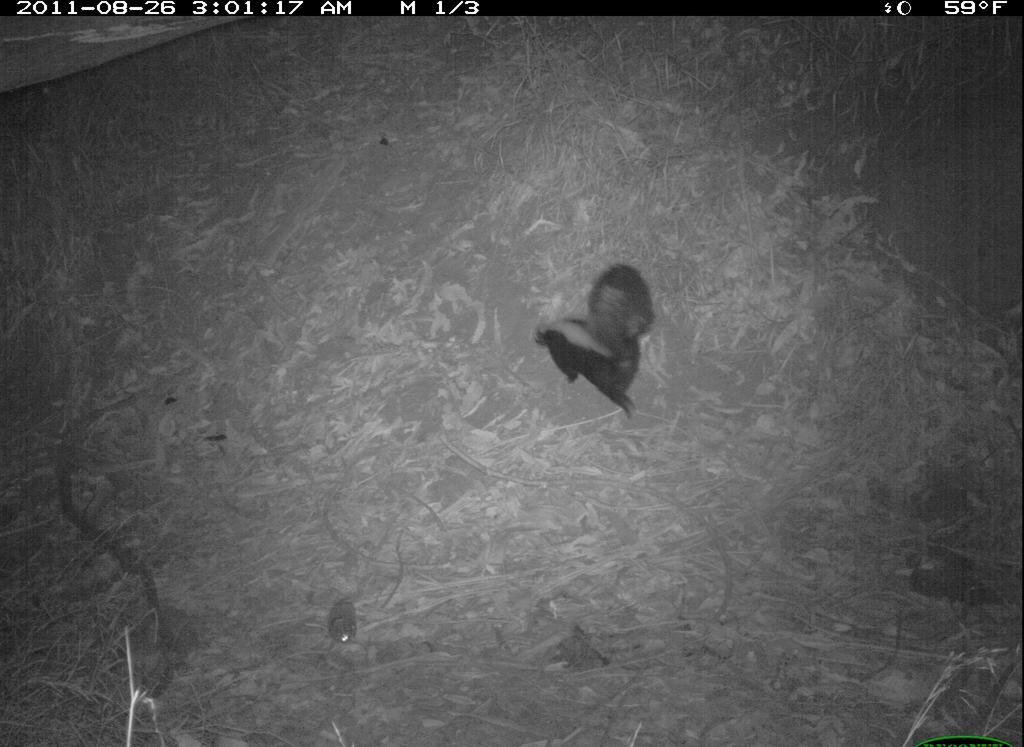skunk: (530, 260, 661, 436)
